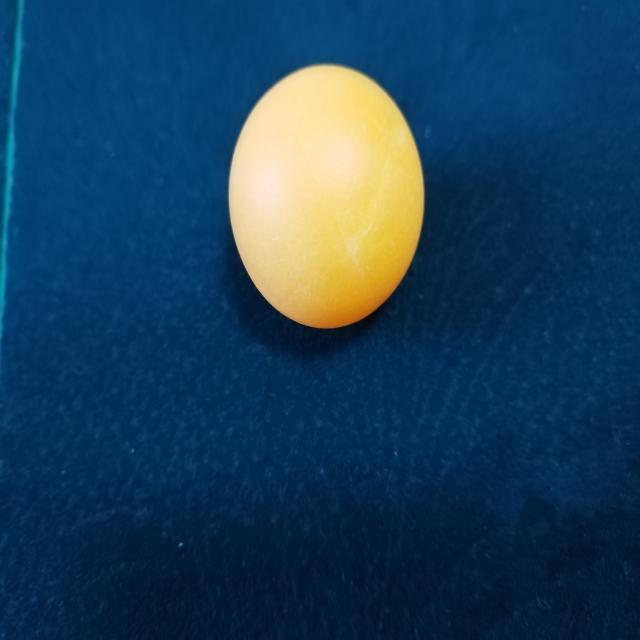ping-pong-ball: (228, 66, 424, 329)
